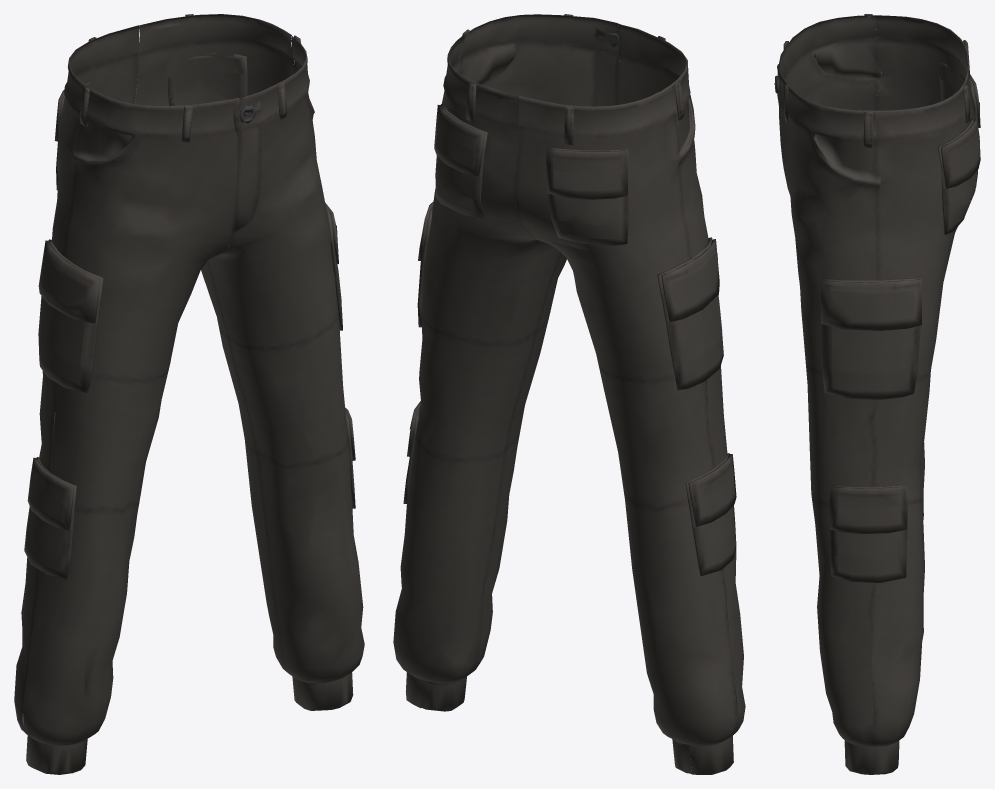
The model's file is SM_black_jeans.glb.
3 renders of one model, left to right at view 1: azimuth 30°, elevation 25°; view 2: azimuth 150°, elevation 25°; view 3: azimuth 270°, elevation 25°, orthographic. The views are drawn at different scales.
Parts seen in each view (by area): view 1: SM_black_jeans; view 2: SM_black_jeans; view 3: SM_black_jeans.
Part boxes in pixels (x1=…): SM_black_jeans: x1=14, y1=14, x2=364, y2=774; SM_black_jeans: x1=393, y1=14, x2=745, y2=774; SM_black_jeans: x1=774, y1=14, x2=980, y2=774.
Size of the model in its own units: 2.85 by 5.47 by 1.59.
Materials: 1 (1 with a texture image).
